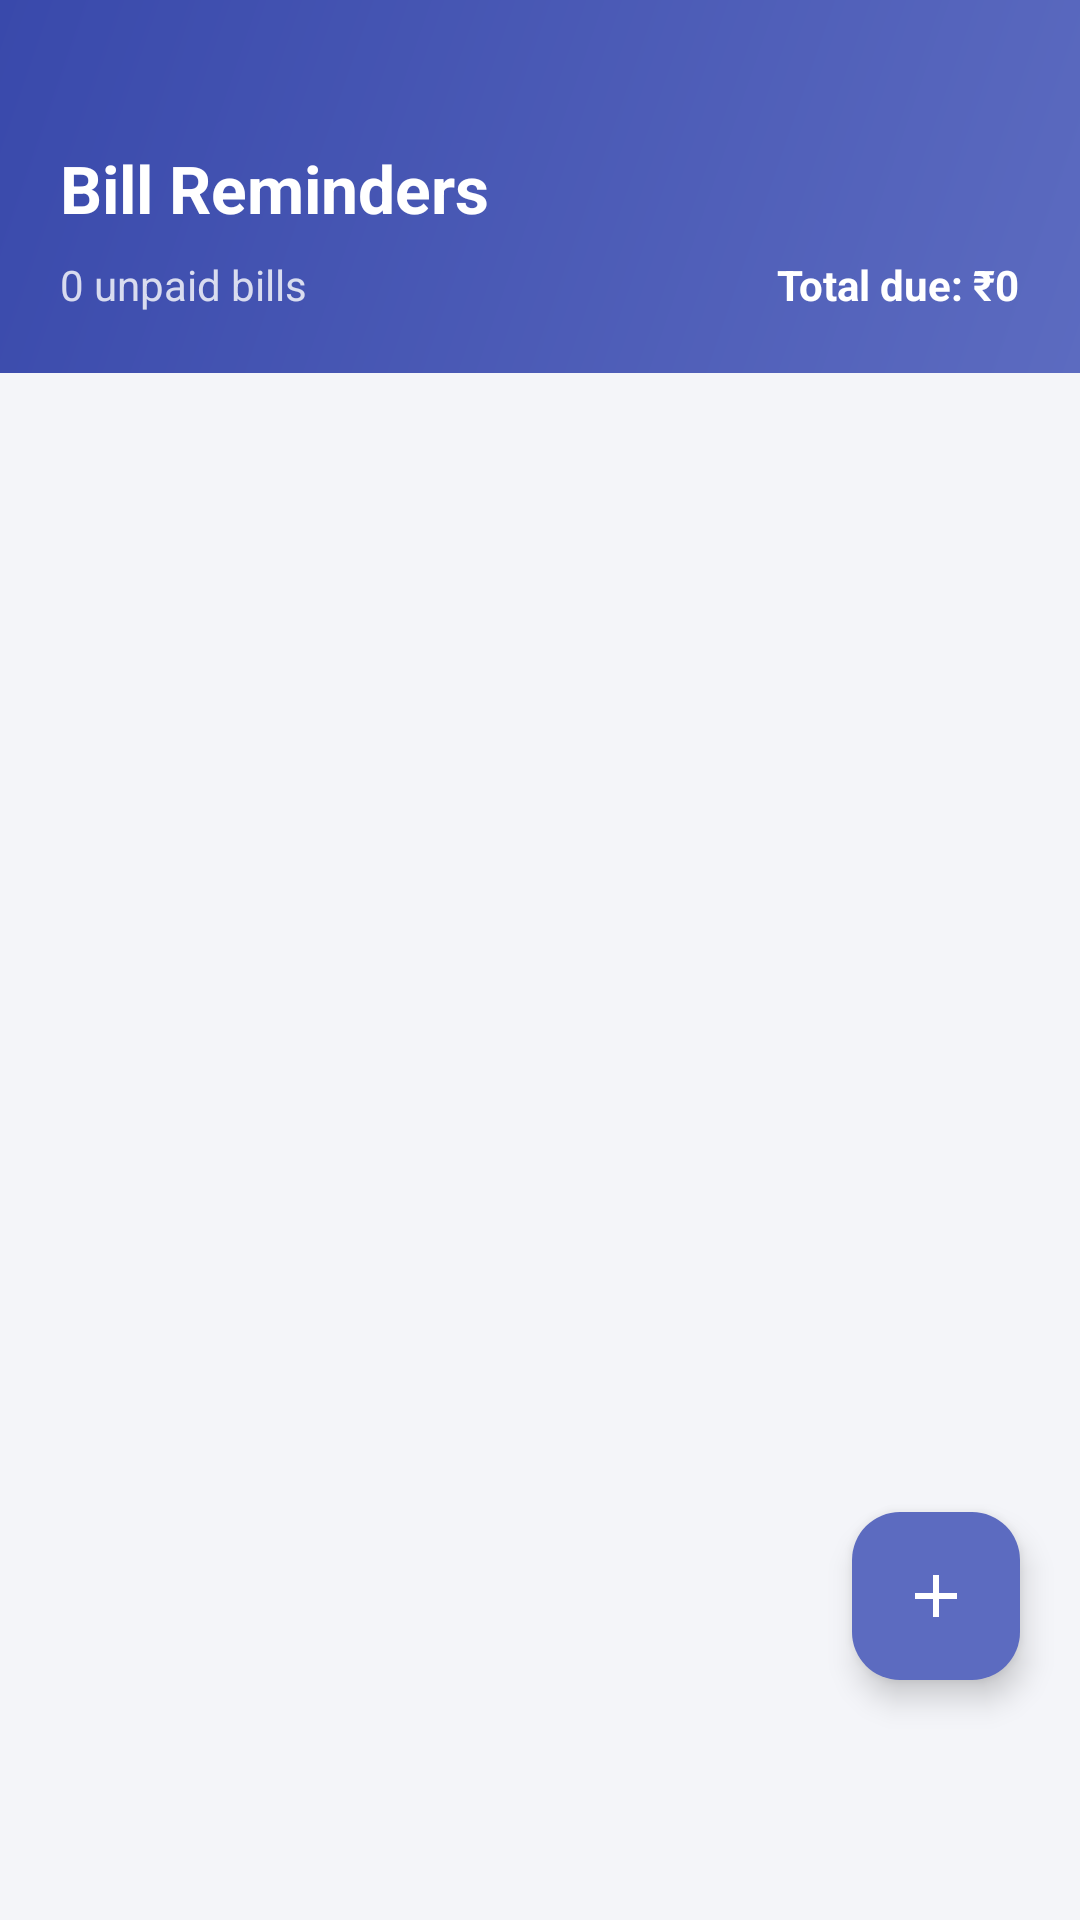

Screen size 1080x1920. Icon name, then its center in pixels as (x,y):
add: (936,1596)
